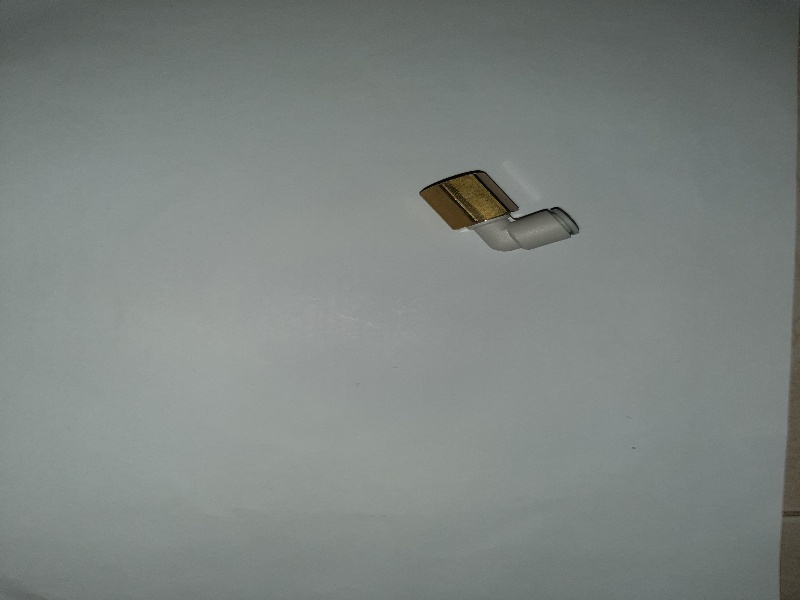Connector: (419, 161, 583, 263)
